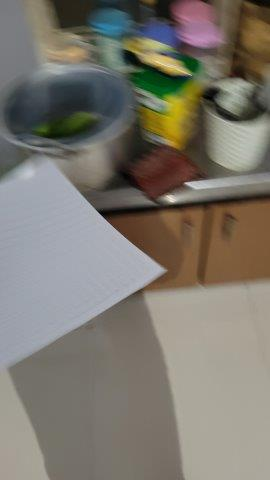kertas: (1, 148, 167, 372)
